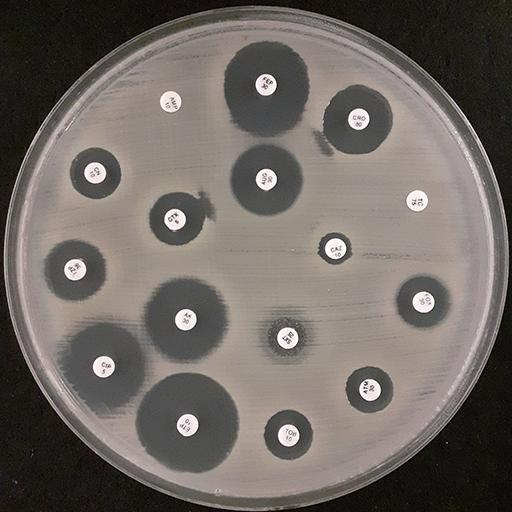disc: (163, 207, 188, 232), (83, 161, 108, 185), (276, 424, 301, 448), (275, 326, 300, 350), (324, 236, 348, 261), (347, 107, 371, 132), (255, 72, 278, 98), (255, 167, 278, 193), (64, 258, 88, 282), (92, 355, 116, 379), (176, 414, 200, 438), (358, 378, 382, 402), (405, 189, 429, 213), (174, 308, 198, 331), (412, 291, 436, 314), (160, 89, 182, 114)
